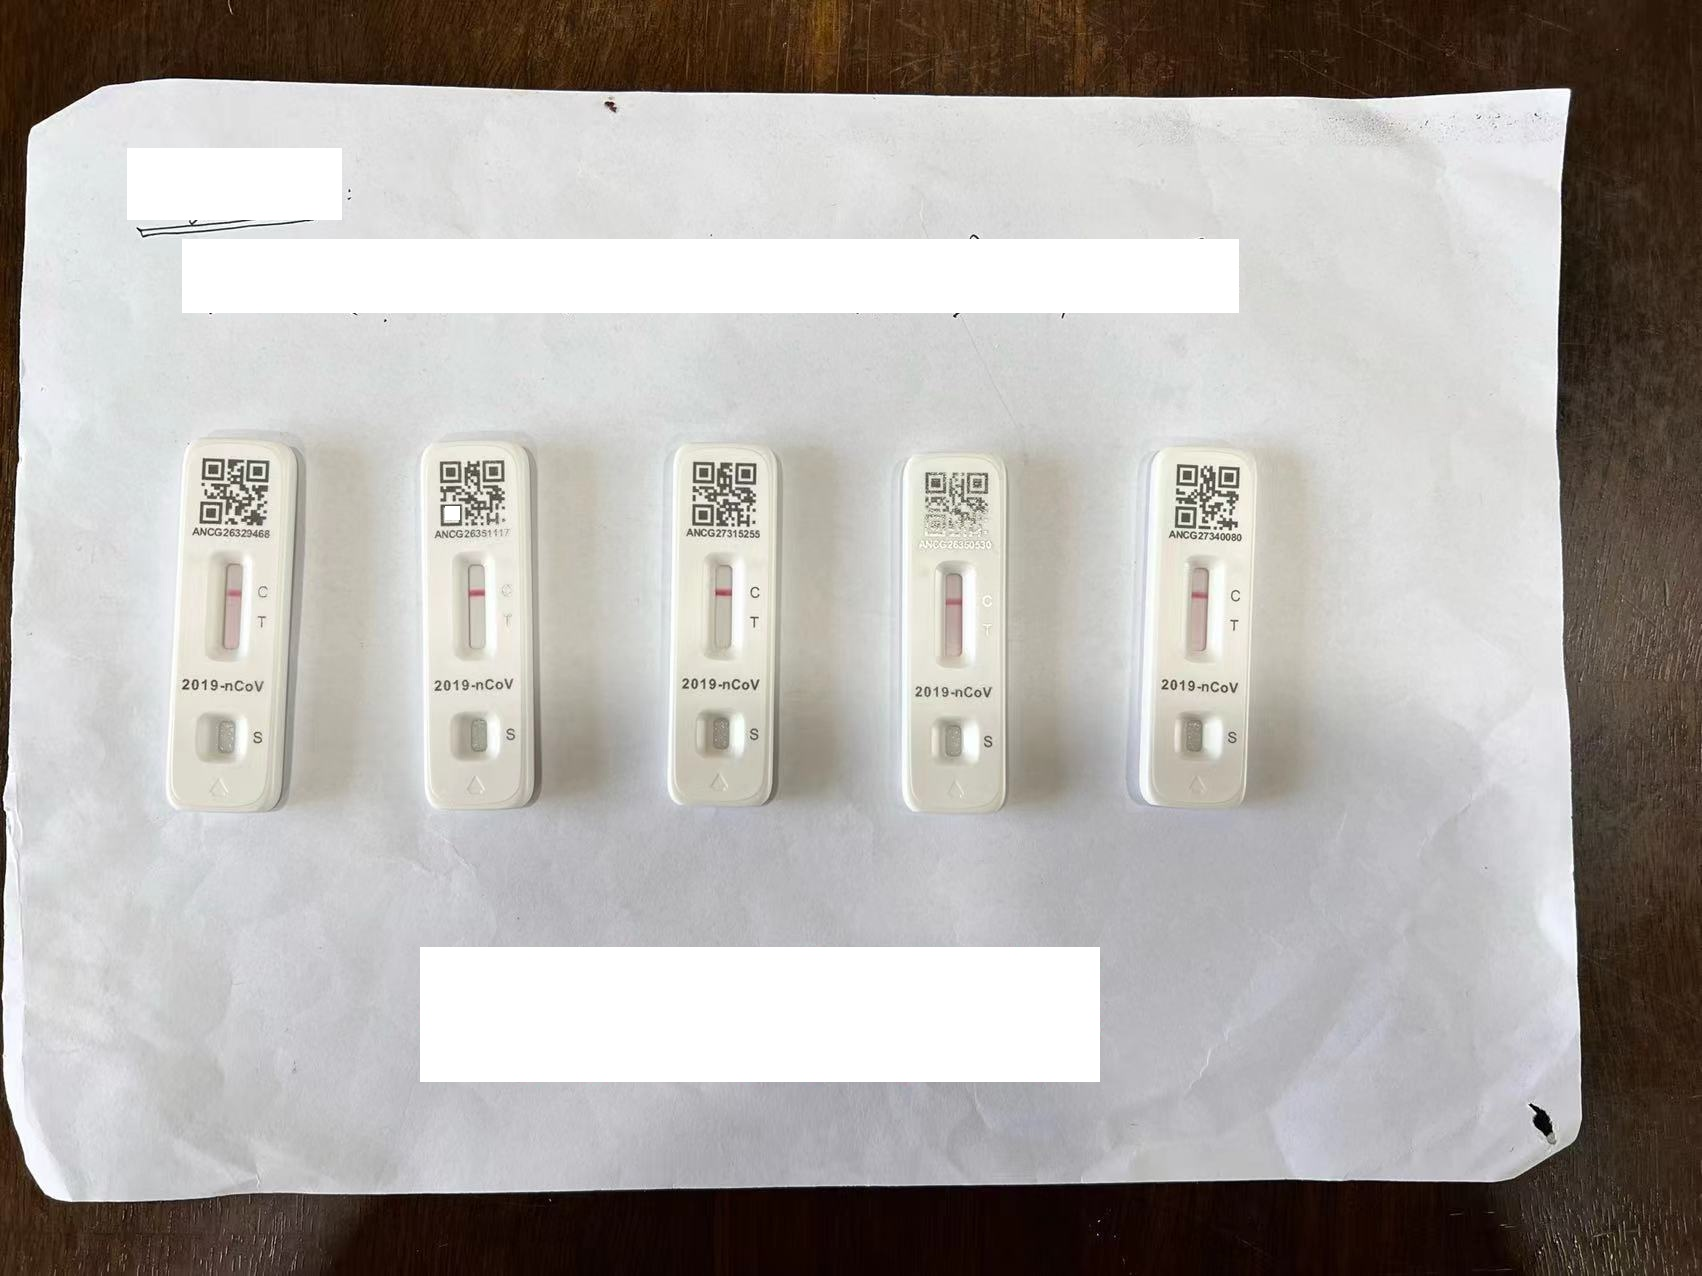negative: (1174, 548, 1229, 665), (933, 559, 976, 670), (701, 552, 742, 658)
